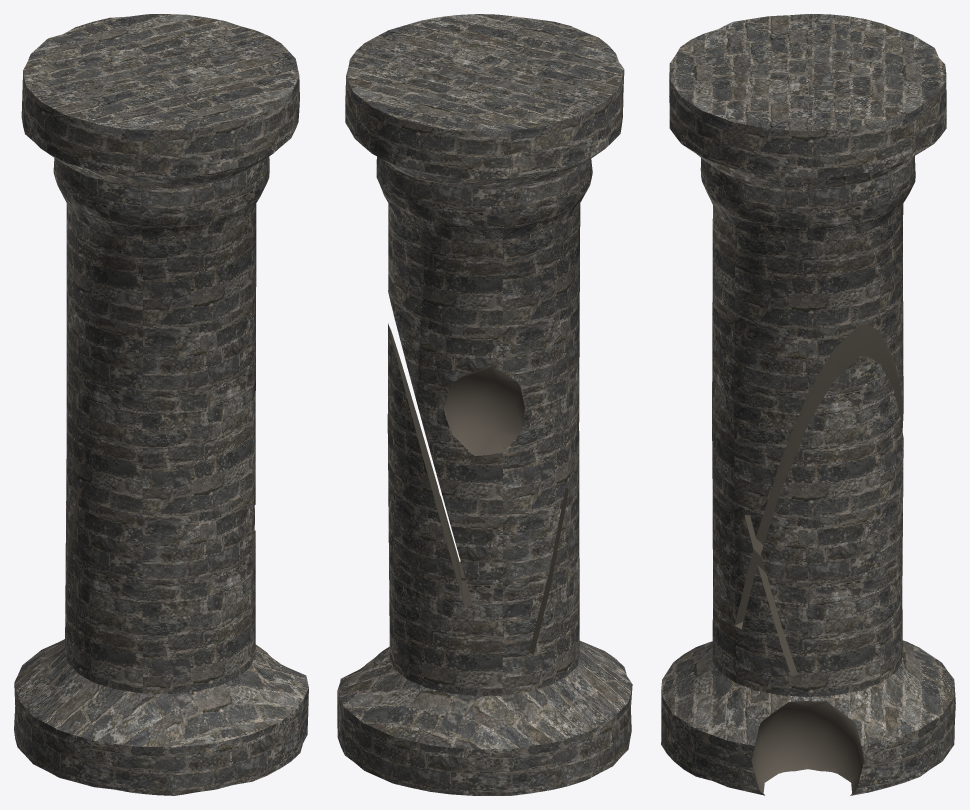
File: cracked-pillar-v01.glb
3 renders of one model, left to right at view 1: azimuth 30°, elevation 25°; view 2: azimuth 150°, elevation 25°; view 3: azimuth 270°, elevation 25°, orthographic.
Parts seen in each view (by area): view 1: cracked-pillar; view 2: cracked-pillar; view 3: cracked-pillar.
Part boxes in pixels (bbox=[...]): cracked-pillar: bbox=[14, 14, 308, 795]; cracked-pillar: bbox=[337, 14, 632, 795]; cracked-pillar: bbox=[661, 14, 955, 795].
Size of the model in its own units: 1.67 by 4.22 by 1.69.
1 material, 1 textured.
